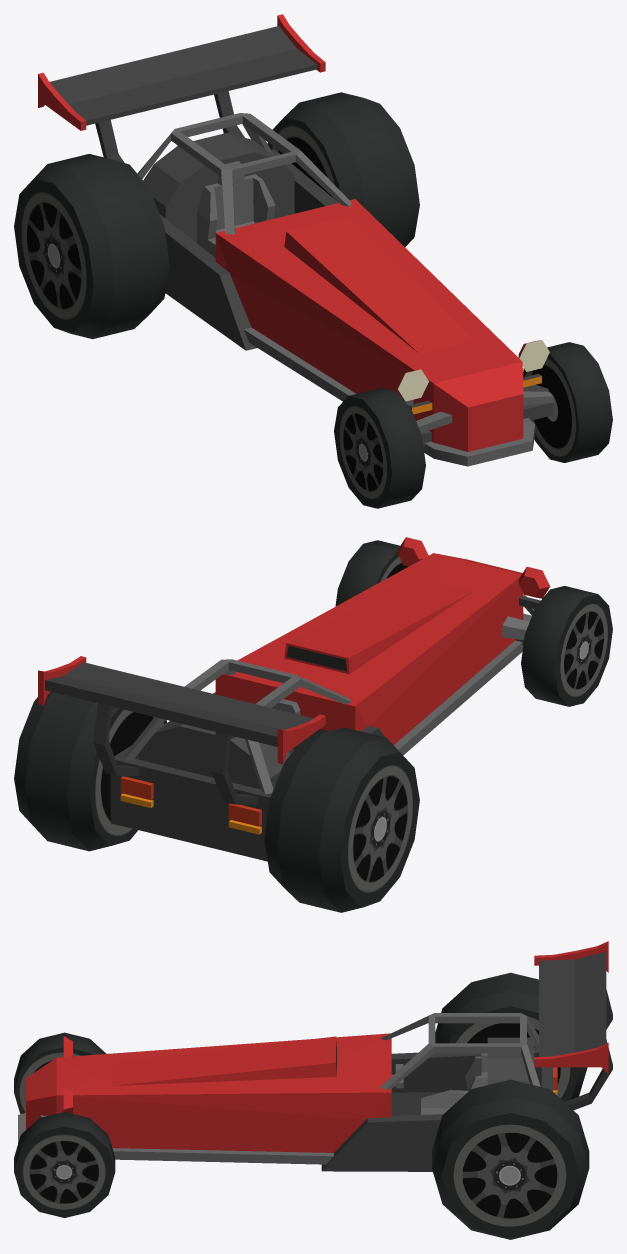
The model's file is RaceCarC.fbx.
3 views of the same model, one above another, from view 1: azimuth 30°, elevation 25°; view 2: azimuth 150°, elevation 25°; view 3: azimuth 270°, elevation 25° (orthographic). The views are drawn at different scales.
Parts seen in each view (by area): view 1: RaceCarC, TireBR, TireBL, TireFR, TireFL; view 2: RaceCarC, TireBR, TireBL, TireFR, TireFL; view 3: RaceCarC, TireBL, TireFL, TireBR, TireFR.
Part boxes in pixels (x1,y1,x2,y2): RaceCarC: [38, 14, 553, 466]; TireBR: [14, 154, 169, 339]; TireBL: [267, 92, 419, 247]; TireFR: [334, 387, 425, 508]; TireFL: [523, 342, 612, 462]; RaceCarC: [38, 537, 550, 861]; TireBR: [264, 727, 419, 912]; TireBL: [14, 692, 166, 851]; TireFR: [521, 586, 612, 706]; TireFL: [335, 540, 408, 606]; RaceCarC: [18, 941, 612, 1171]; TireBL: [432, 1079, 589, 1239]; TireFL: [14, 1112, 115, 1217]; TireBR: [435, 972, 587, 1101]; TireFR: [14, 1032, 106, 1113].
Bounding box in the file's own units: 227 × 141 × 415.
